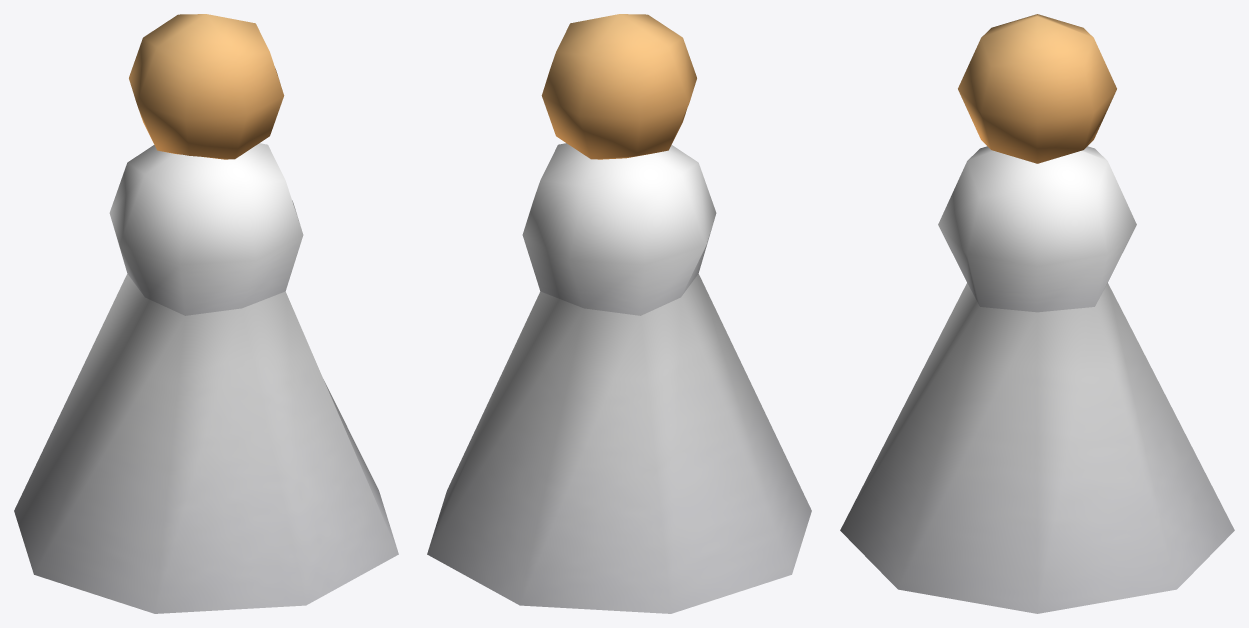
The model's file is m_WeddingcakeTopper04.fbx.
The picture shows the model from 3 angles, left to right: view 1: azimuth 30°, elevation 25°; view 2: azimuth 150°, elevation 25°; view 3: azimuth 270°, elevation 25°; orthographic projection.
Visible parts, largest first — view 1: m_WeddingcakeTopper04; view 2: m_WeddingcakeTopper04; view 3: m_WeddingcakeTopper04.
Part boxes in pixels (x1=…): m_WeddingcakeTopper04: x1=14, y1=14, x2=398, y2=613; m_WeddingcakeTopper04: x1=427, y1=14, x2=811, y2=613; m_WeddingcakeTopper04: x1=840, y1=14, x2=1234, y2=613.
Size of the model in its own units: 6.12 by 8.79 by 6.12.
